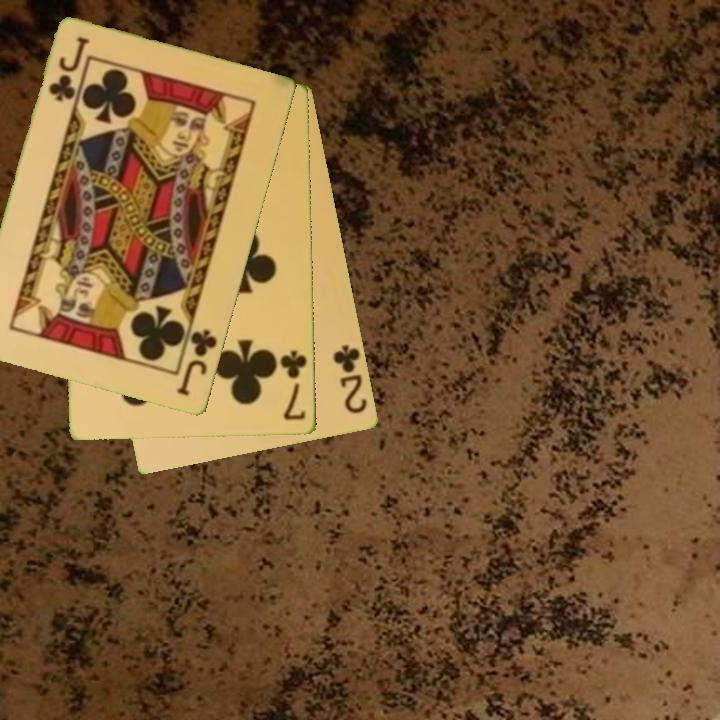2c: (330, 341, 371, 417)
7c: (276, 347, 311, 423)
Jc: (173, 326, 221, 399), (45, 33, 92, 105)
